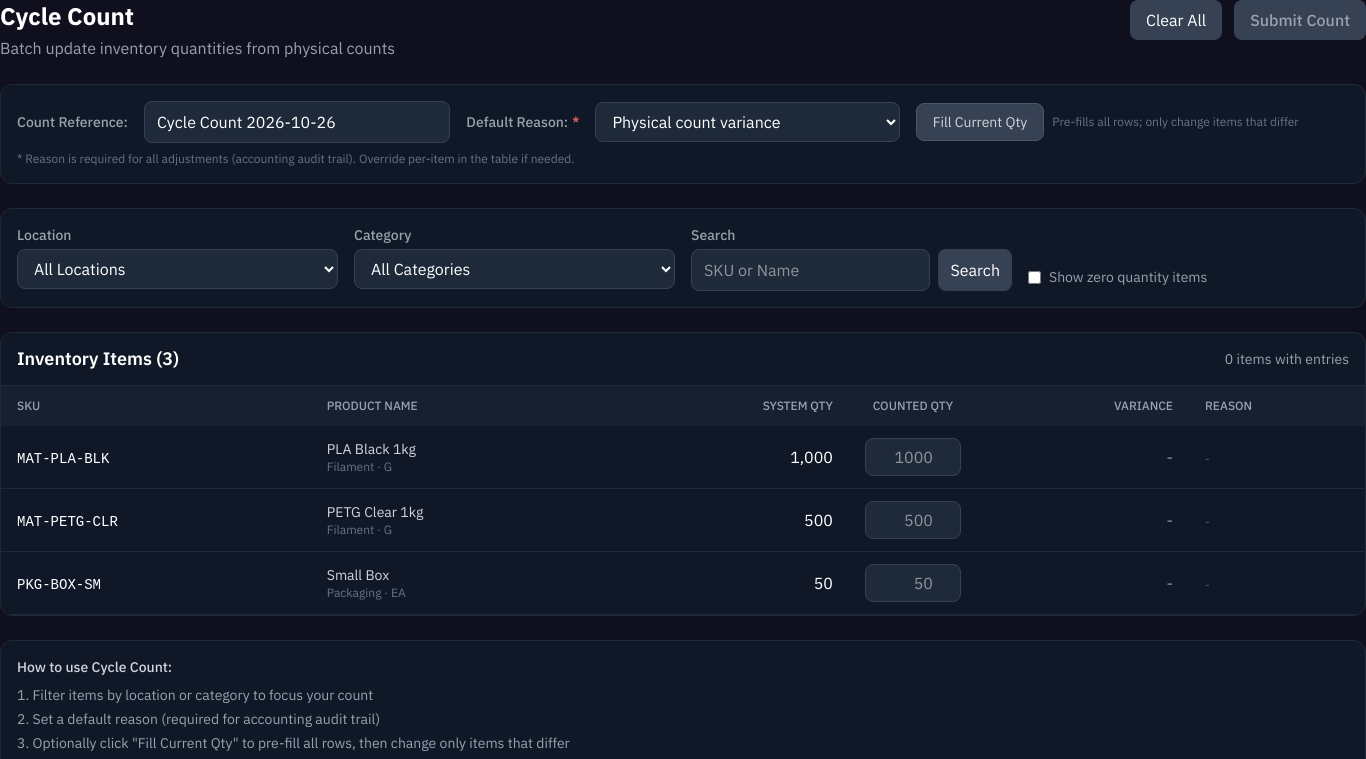
AdminCycleCount — Go Back preserves entries › dismisses the review modal when Go Back is clicked, entries intact
Expected: the text "MAT-PLA-BLK" is shown, x1=17 y1=451 x2=109 y2=467
Type "1200" into the number field with placeholder "1000" at (913, 457), box x1=865 y1=438 x2=961 y2=476
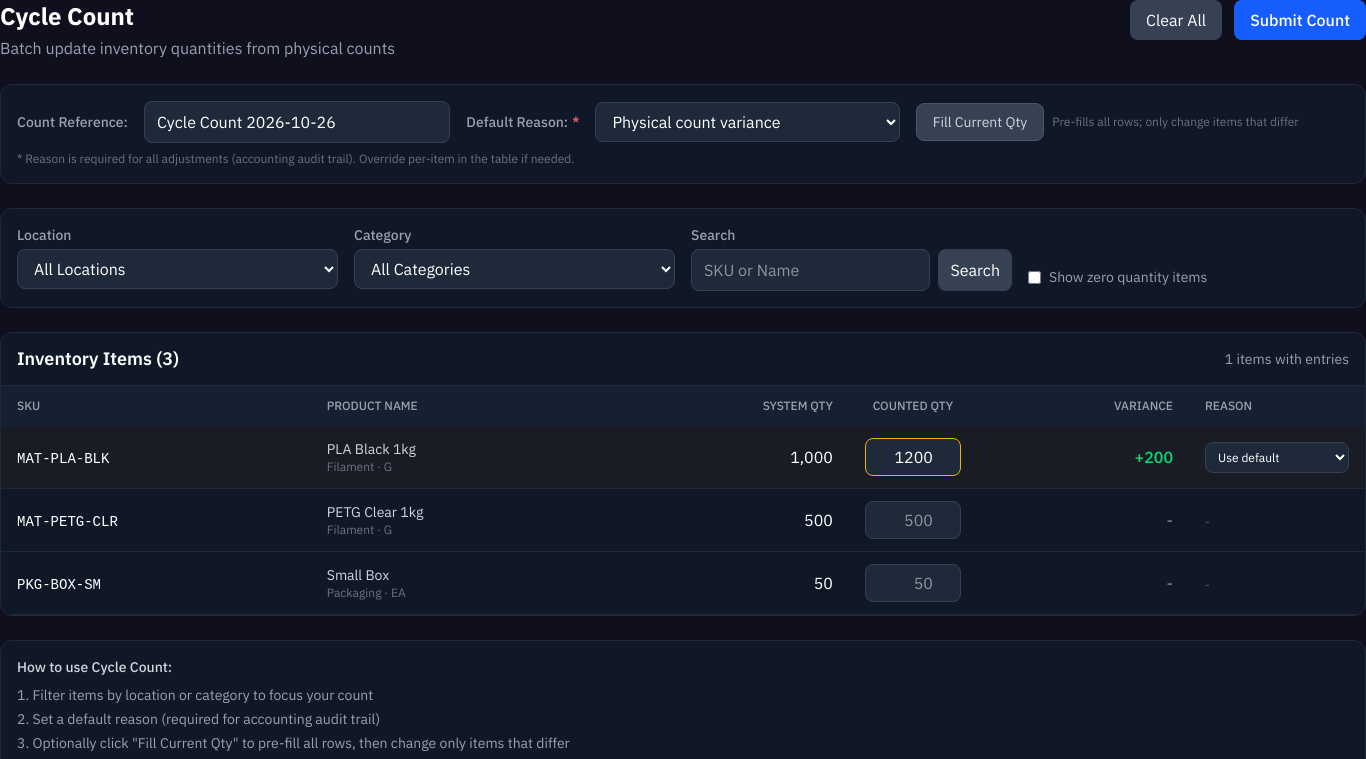
Click the button "Submit Count" at (1300, 20), box x1=1234 y1=0 x2=1365 y2=40
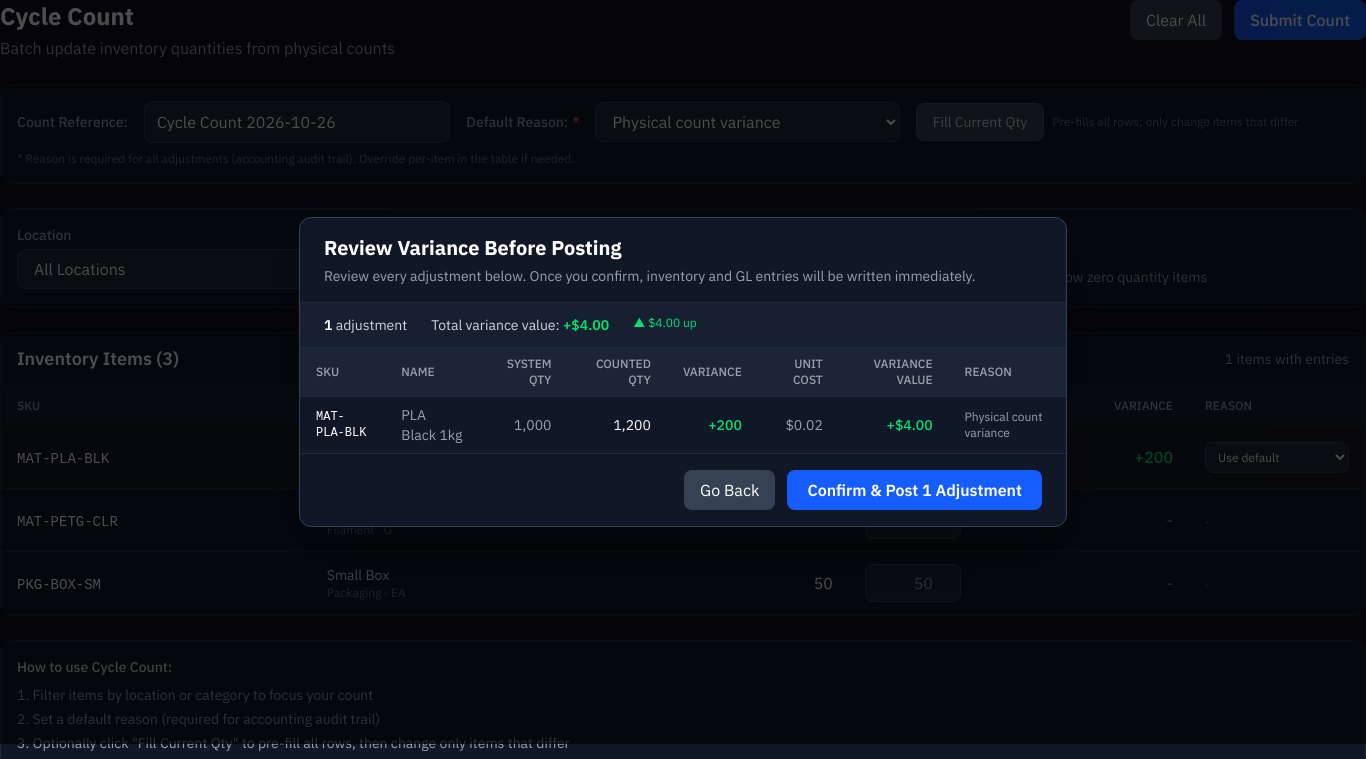
Now the heading "Review Variance Before Posting" is shown, box x1=324 y1=234 x2=622 y2=261
// Click Go Back
Click the button "Go Back" at (730, 490), box x1=684 y1=470 x2=775 y2=510
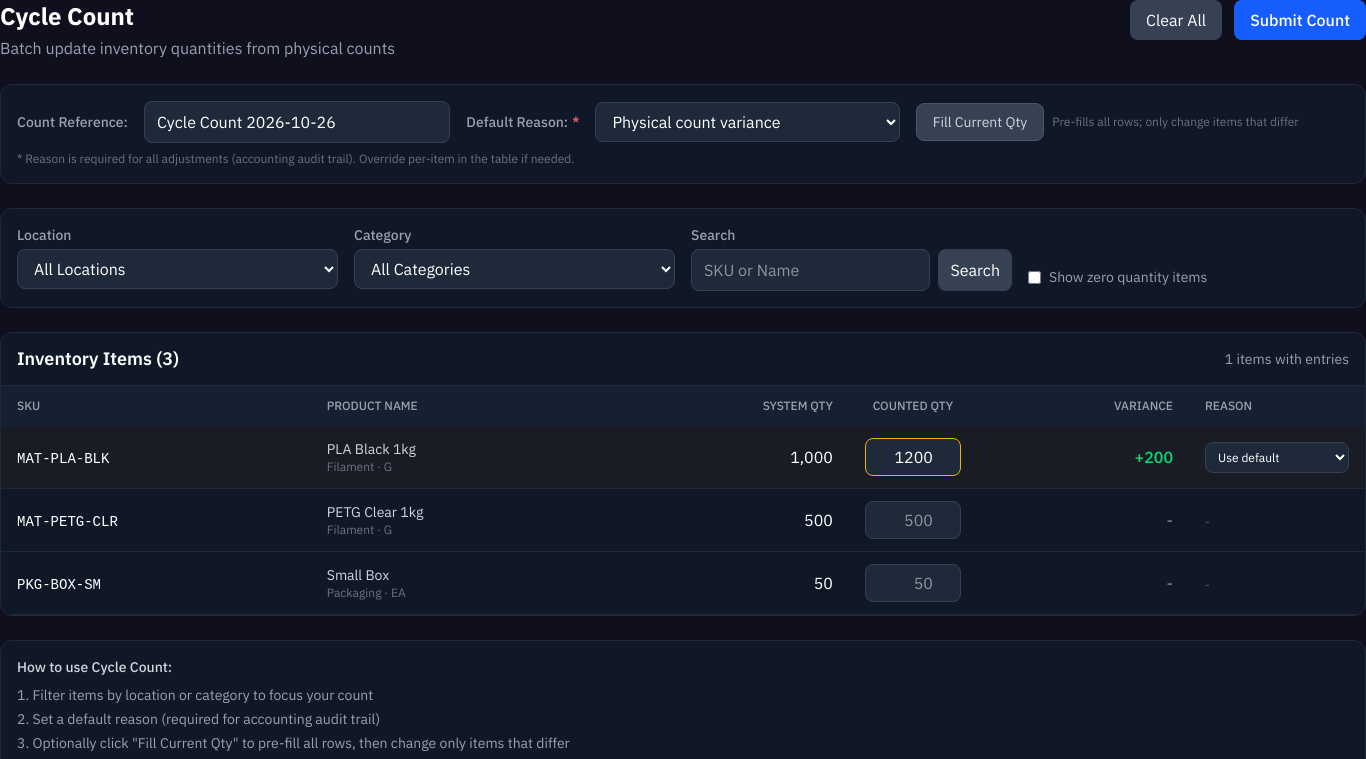
Now the heading "Review Variance Before Posting" is gone
